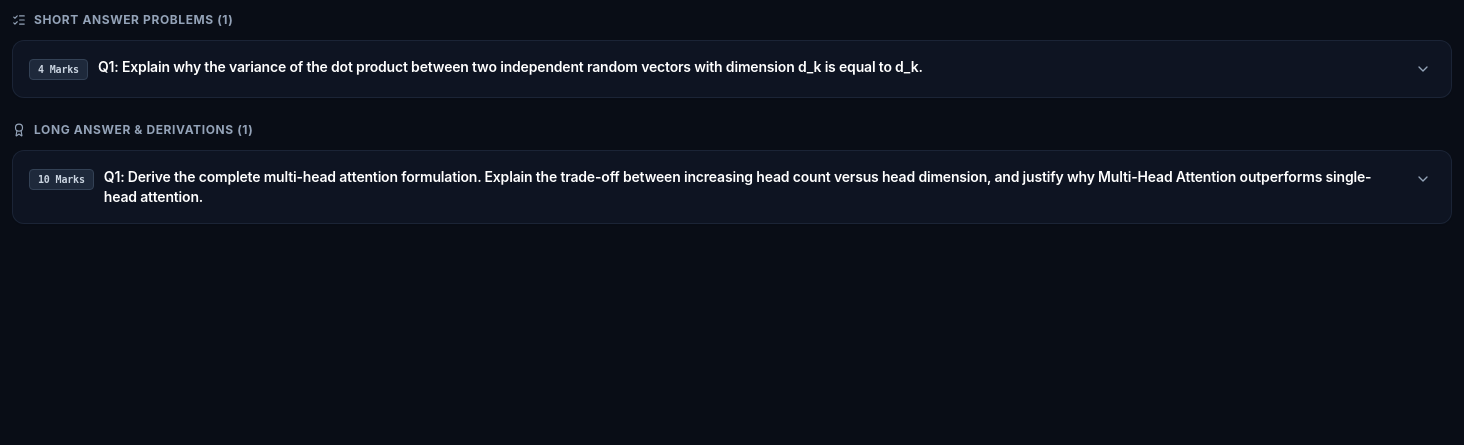
Test case: ExamQuestionsTab Component › toggles model answer and evaluation rubric visibility on button click
Click to expand first question
Step 1. Click the 1st button → (732, 69), box 13,41 -> 1451,97
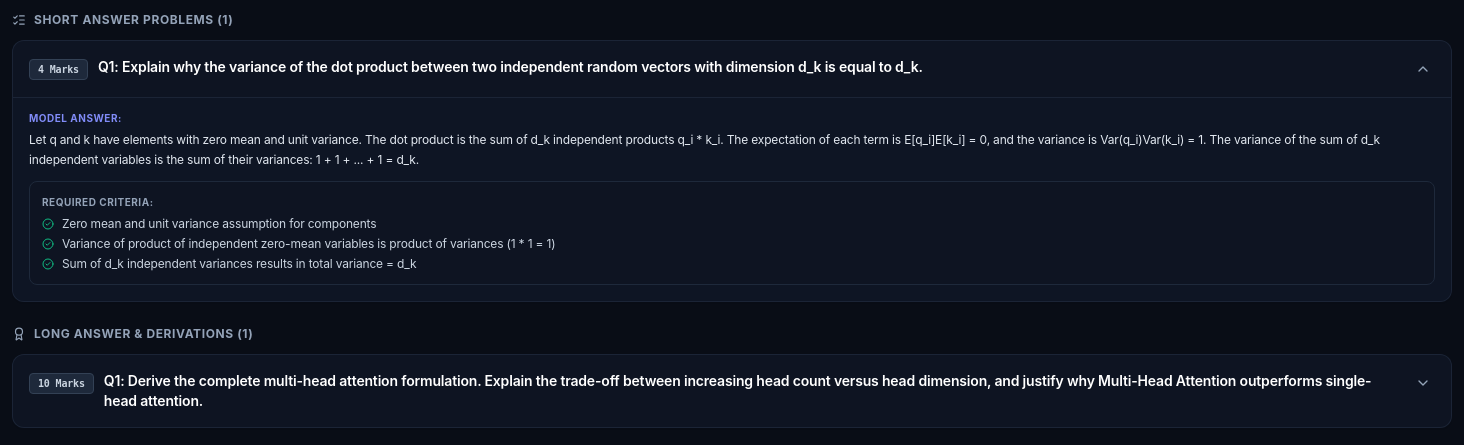
Expected: the text "Model Answer:" is shown, 29,112 -> 122,124
Expected: the text "Required Criteria:" is shown, 42,196 -> 154,208
